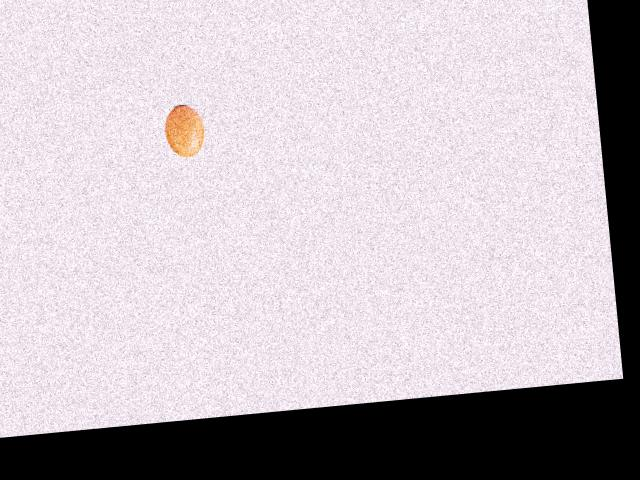egg: (162, 103, 205, 159)
